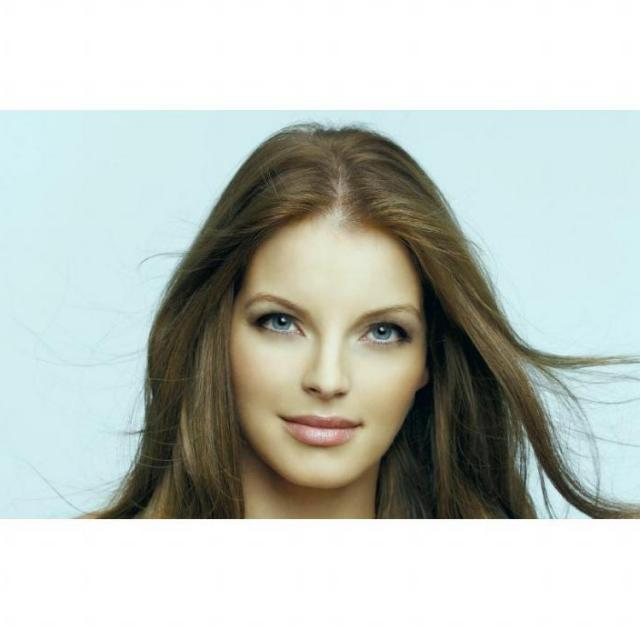live: (214, 195, 436, 499)
